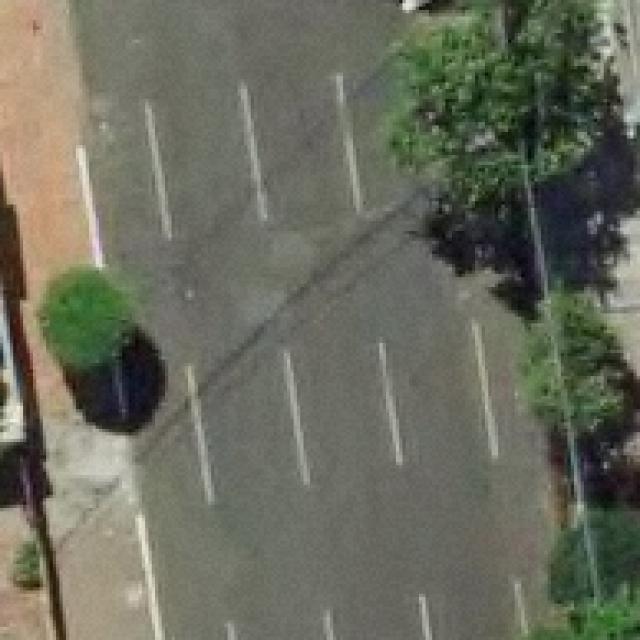trees: (400, 1, 625, 207), (529, 291, 640, 465), (44, 272, 140, 354), (530, 590, 640, 640), (596, 509, 640, 596), (555, 529, 595, 606)
